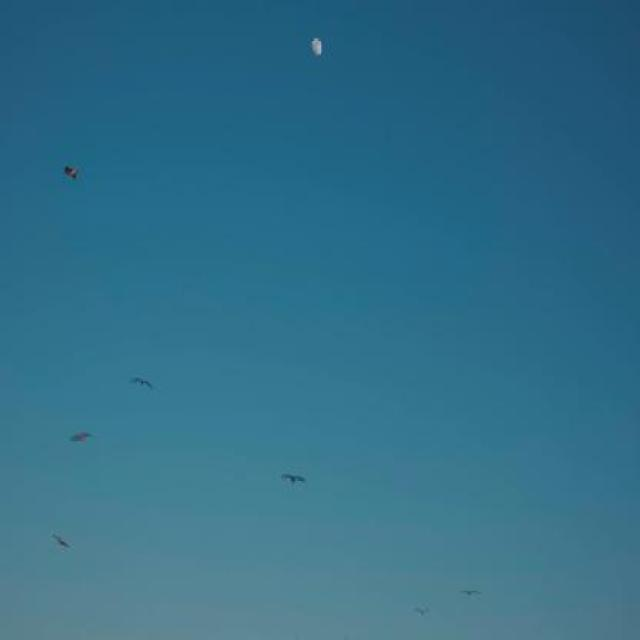bird: (280, 464, 309, 496), (64, 426, 94, 454), (129, 371, 156, 402), (58, 157, 88, 181), (52, 529, 71, 560), (457, 582, 483, 600), (410, 602, 433, 622)
